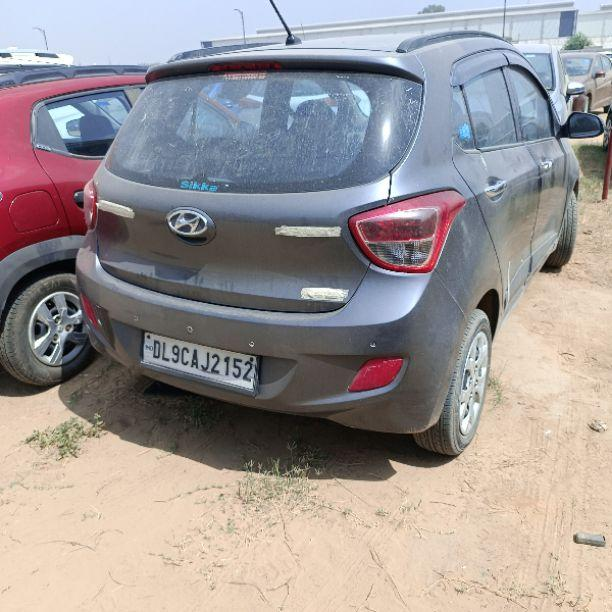license_plate: (139, 330, 261, 396)
